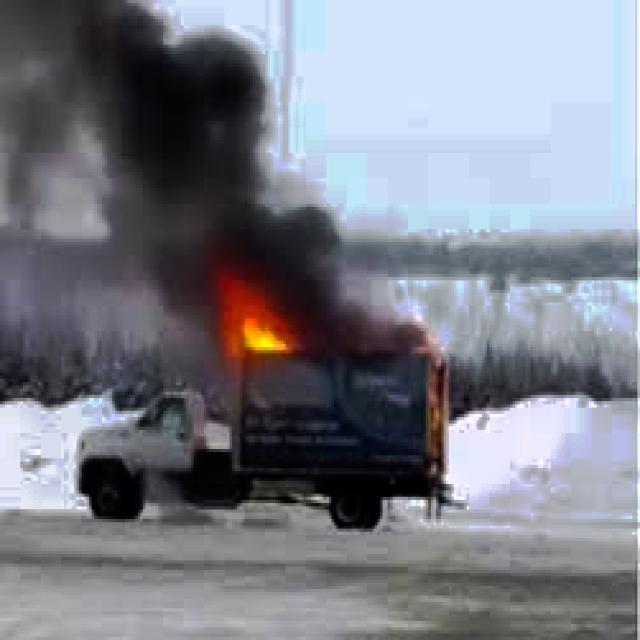api: (210, 262, 320, 370)
